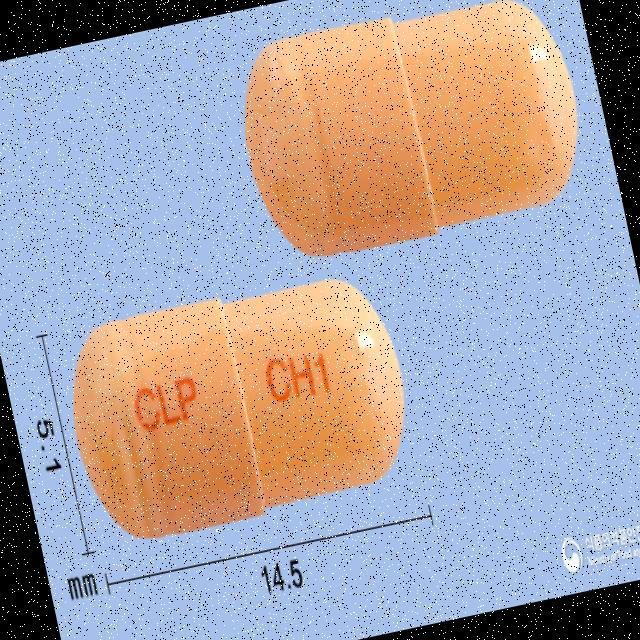Ceprion Cap: (49, 256, 430, 556), (222, 0, 603, 274)
